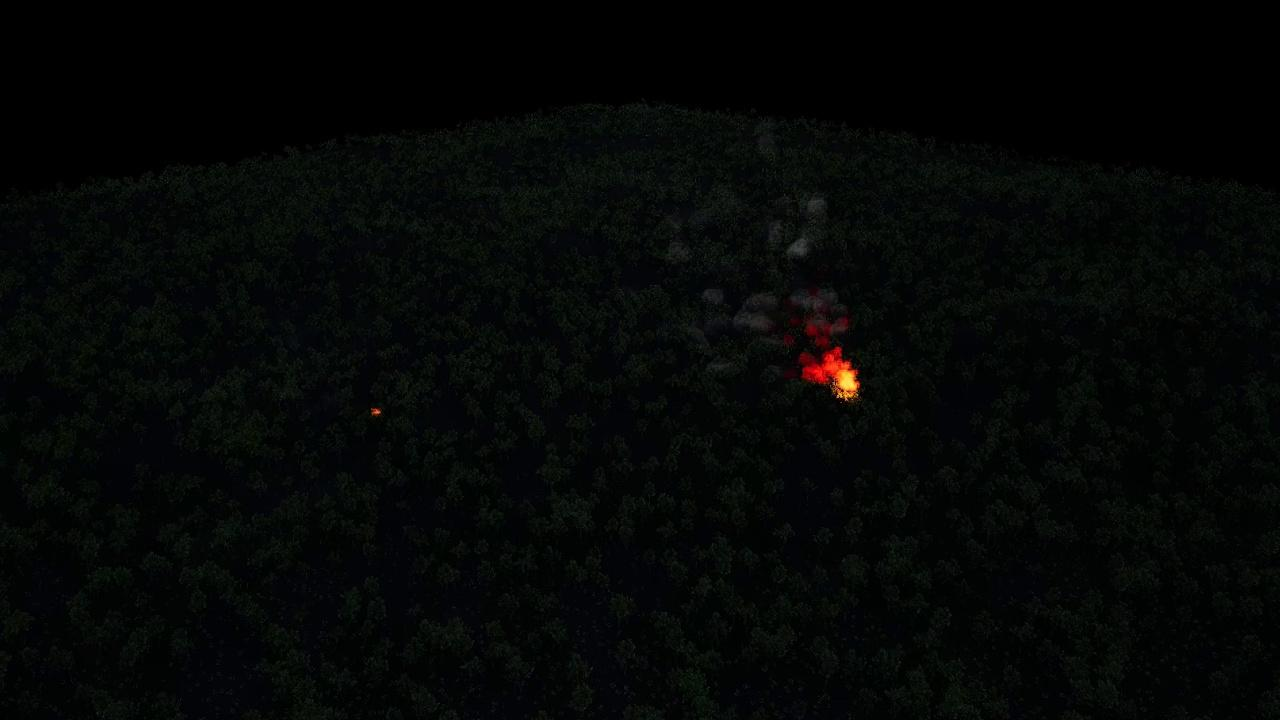fire: (806, 348, 861, 399), (369, 406, 382, 417)
smoke: (694, 287, 850, 384), (769, 196, 833, 262), (666, 211, 704, 262)
